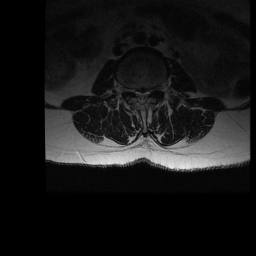CCS_stenosis: (139, 86, 144, 107)
LFS_stenosis: (150, 82, 156, 96)
LLS_stenosis: (144, 86, 150, 102)
RFS_stenosis: (129, 82, 134, 99)
RLS_stenosis: (134, 85, 139, 101)
